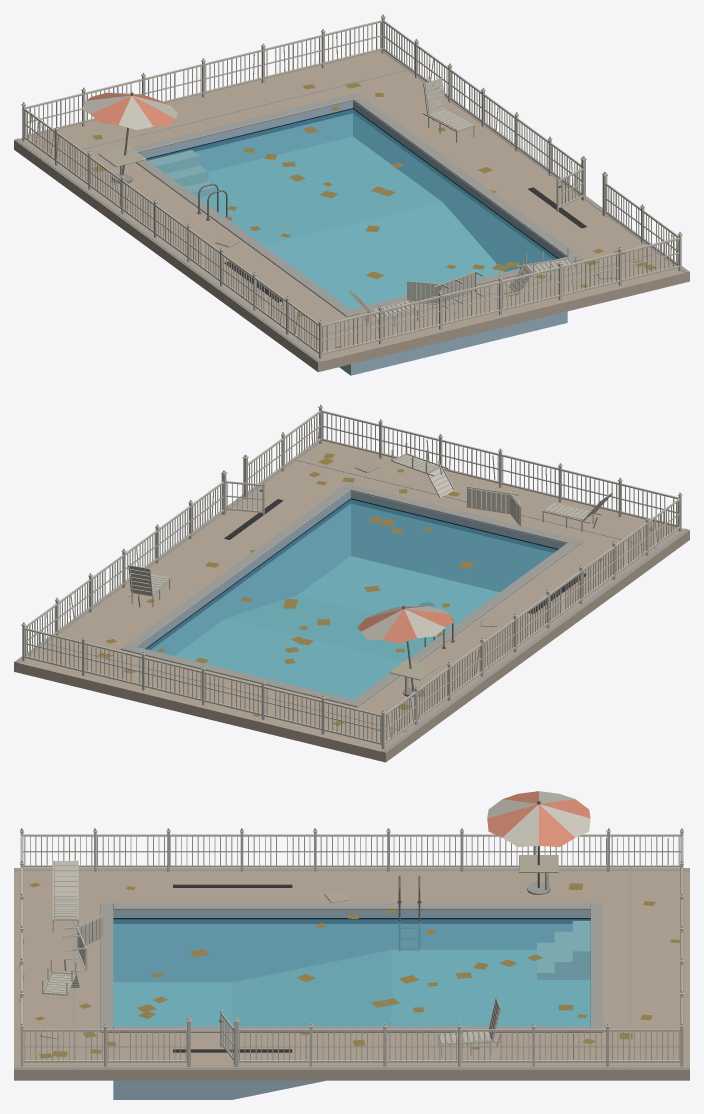
The model's file is pool_deck.glb.
3 views of the same model, one above another, from view 1: azimuth 30°, elevation 25°; view 2: azimuth 150°, elevation 25°; view 3: azimuth 270°, elevation 25° (orthographic). The views are drawn at different scales.
Visible parts, largest first — view 1: PoolDeck_Mesh; view 2: PoolDeck_Mesh; view 3: PoolDeck_Mesh.
Boxes of the visible parts, x1,y1,x2,y2 form: PoolDeck_Mesh: (14,14,689,375); PoolDeck_Mesh: (14,404,689,762); PoolDeck_Mesh: (14,791,689,1099).
Size of the model in its own units: 12 by 4.62 by 17.
